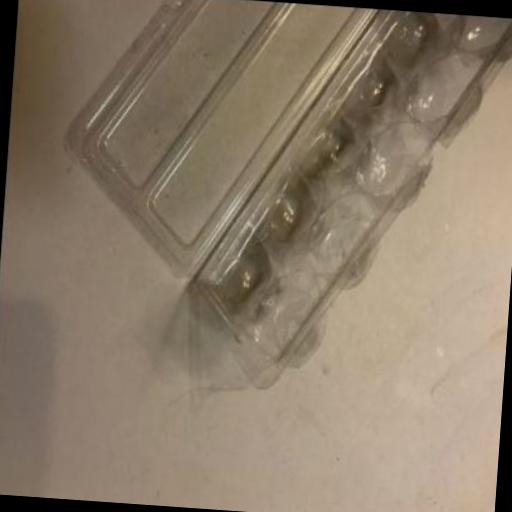plastic: (47, 0, 512, 409), (54, 0, 395, 291)
